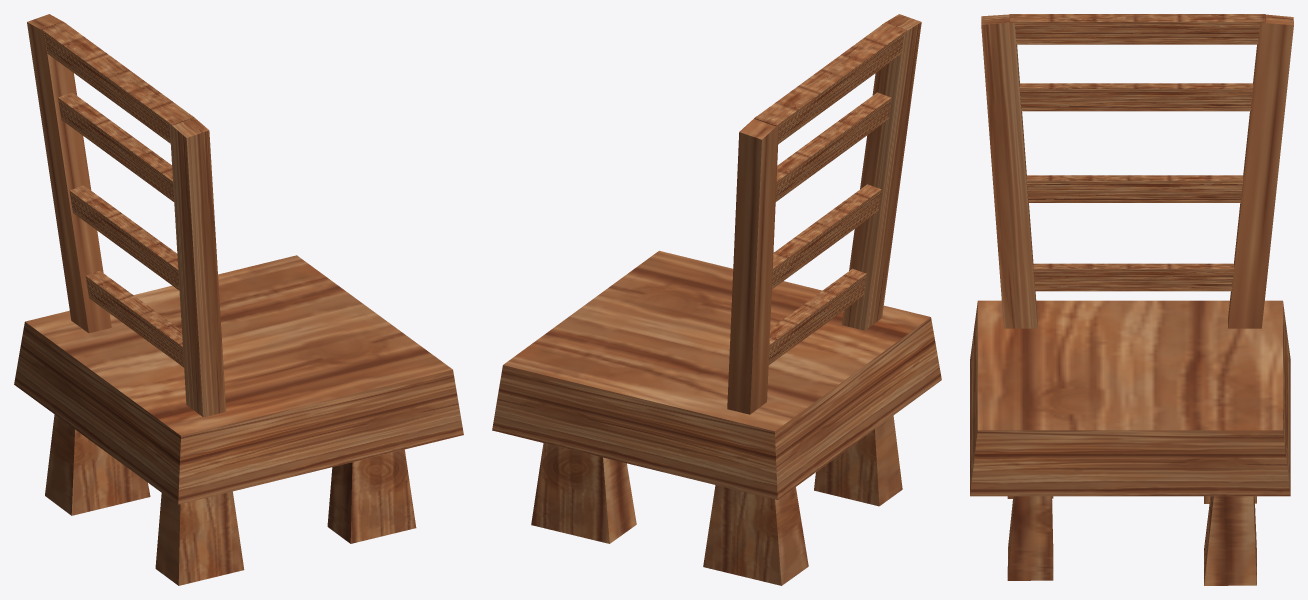
Rendered from chair.glb.
3 renders of one model, left to right at view 1: azimuth 30°, elevation 25°; view 2: azimuth 150°, elevation 25°; view 3: azimuth 270°, elevation 25°, orthographic. The views are drawn at different scales.
Visible parts, largest first — view 1: Cube, nogi, Cube.002, Cube.001, nogi.001, Cube.006, Cube.005, Cube.004, Cube.003; view 2: Cube, nogi, Cube.001, Cube.002, nogi.001, Cube.006, Cube.005, Cube.004, Cube.003; view 3: Cube, Cube.001, Cube.002, nogi.001, Cube.006, Cube.005, Cube.004, Cube.003.
Part boxes in pixels (left/top/right/bottom): Cube: left=14, top=255, right=463, bottom=504; nogi: left=45, top=414, right=244, bottom=585; Cube.002: left=169, top=117, right=226, bottom=417; Cube.001: left=27, top=14, right=111, bottom=333; nogi.001: left=327, top=449, right=416, bottom=543; Cube.006: left=41, top=21, right=194, bottom=143; Cube.005: left=58, top=92, right=174, bottom=201; Cube.004: left=69, top=185, right=179, bottom=290; Cube.003: left=85, top=271, right=183, bottom=367; Cube: left=492, top=250, right=941, bottom=499; nogi: left=703, top=415, right=902, bottom=585; Cube.001: left=727, top=116, right=778, bottom=414; Cube.002: left=842, top=14, right=921, bottom=330; nogi.001: left=531, top=443, right=636, bottom=543; Cube.006: left=754, top=22, right=906, bottom=143; Cube.005: left=775, top=92, right=891, bottom=201; Cube.004: left=772, top=184, right=881, bottom=288; Cube.003: left=768, top=268, right=866, bottom=364; Cube: left=970, top=300, right=1290, bottom=496; Cube.001: left=1228, top=14, right=1293, bottom=328; Cube.002: left=981, top=14, right=1037, bottom=328; nogi.001: left=1007, top=496, right=1256, bottom=585; Cube.006: left=1009, top=14, right=1265, bottom=44; Cube.005: left=1019, top=83, right=1253, bottom=111; Cube.004: left=1026, top=175, right=1243, bottom=202; Cube.003: left=1033, top=263, right=1234, bottom=291.
Bounding box in the file's own units: 2 × 3.12 × 2.01.
Materials: 1 (1 with a texture image).
